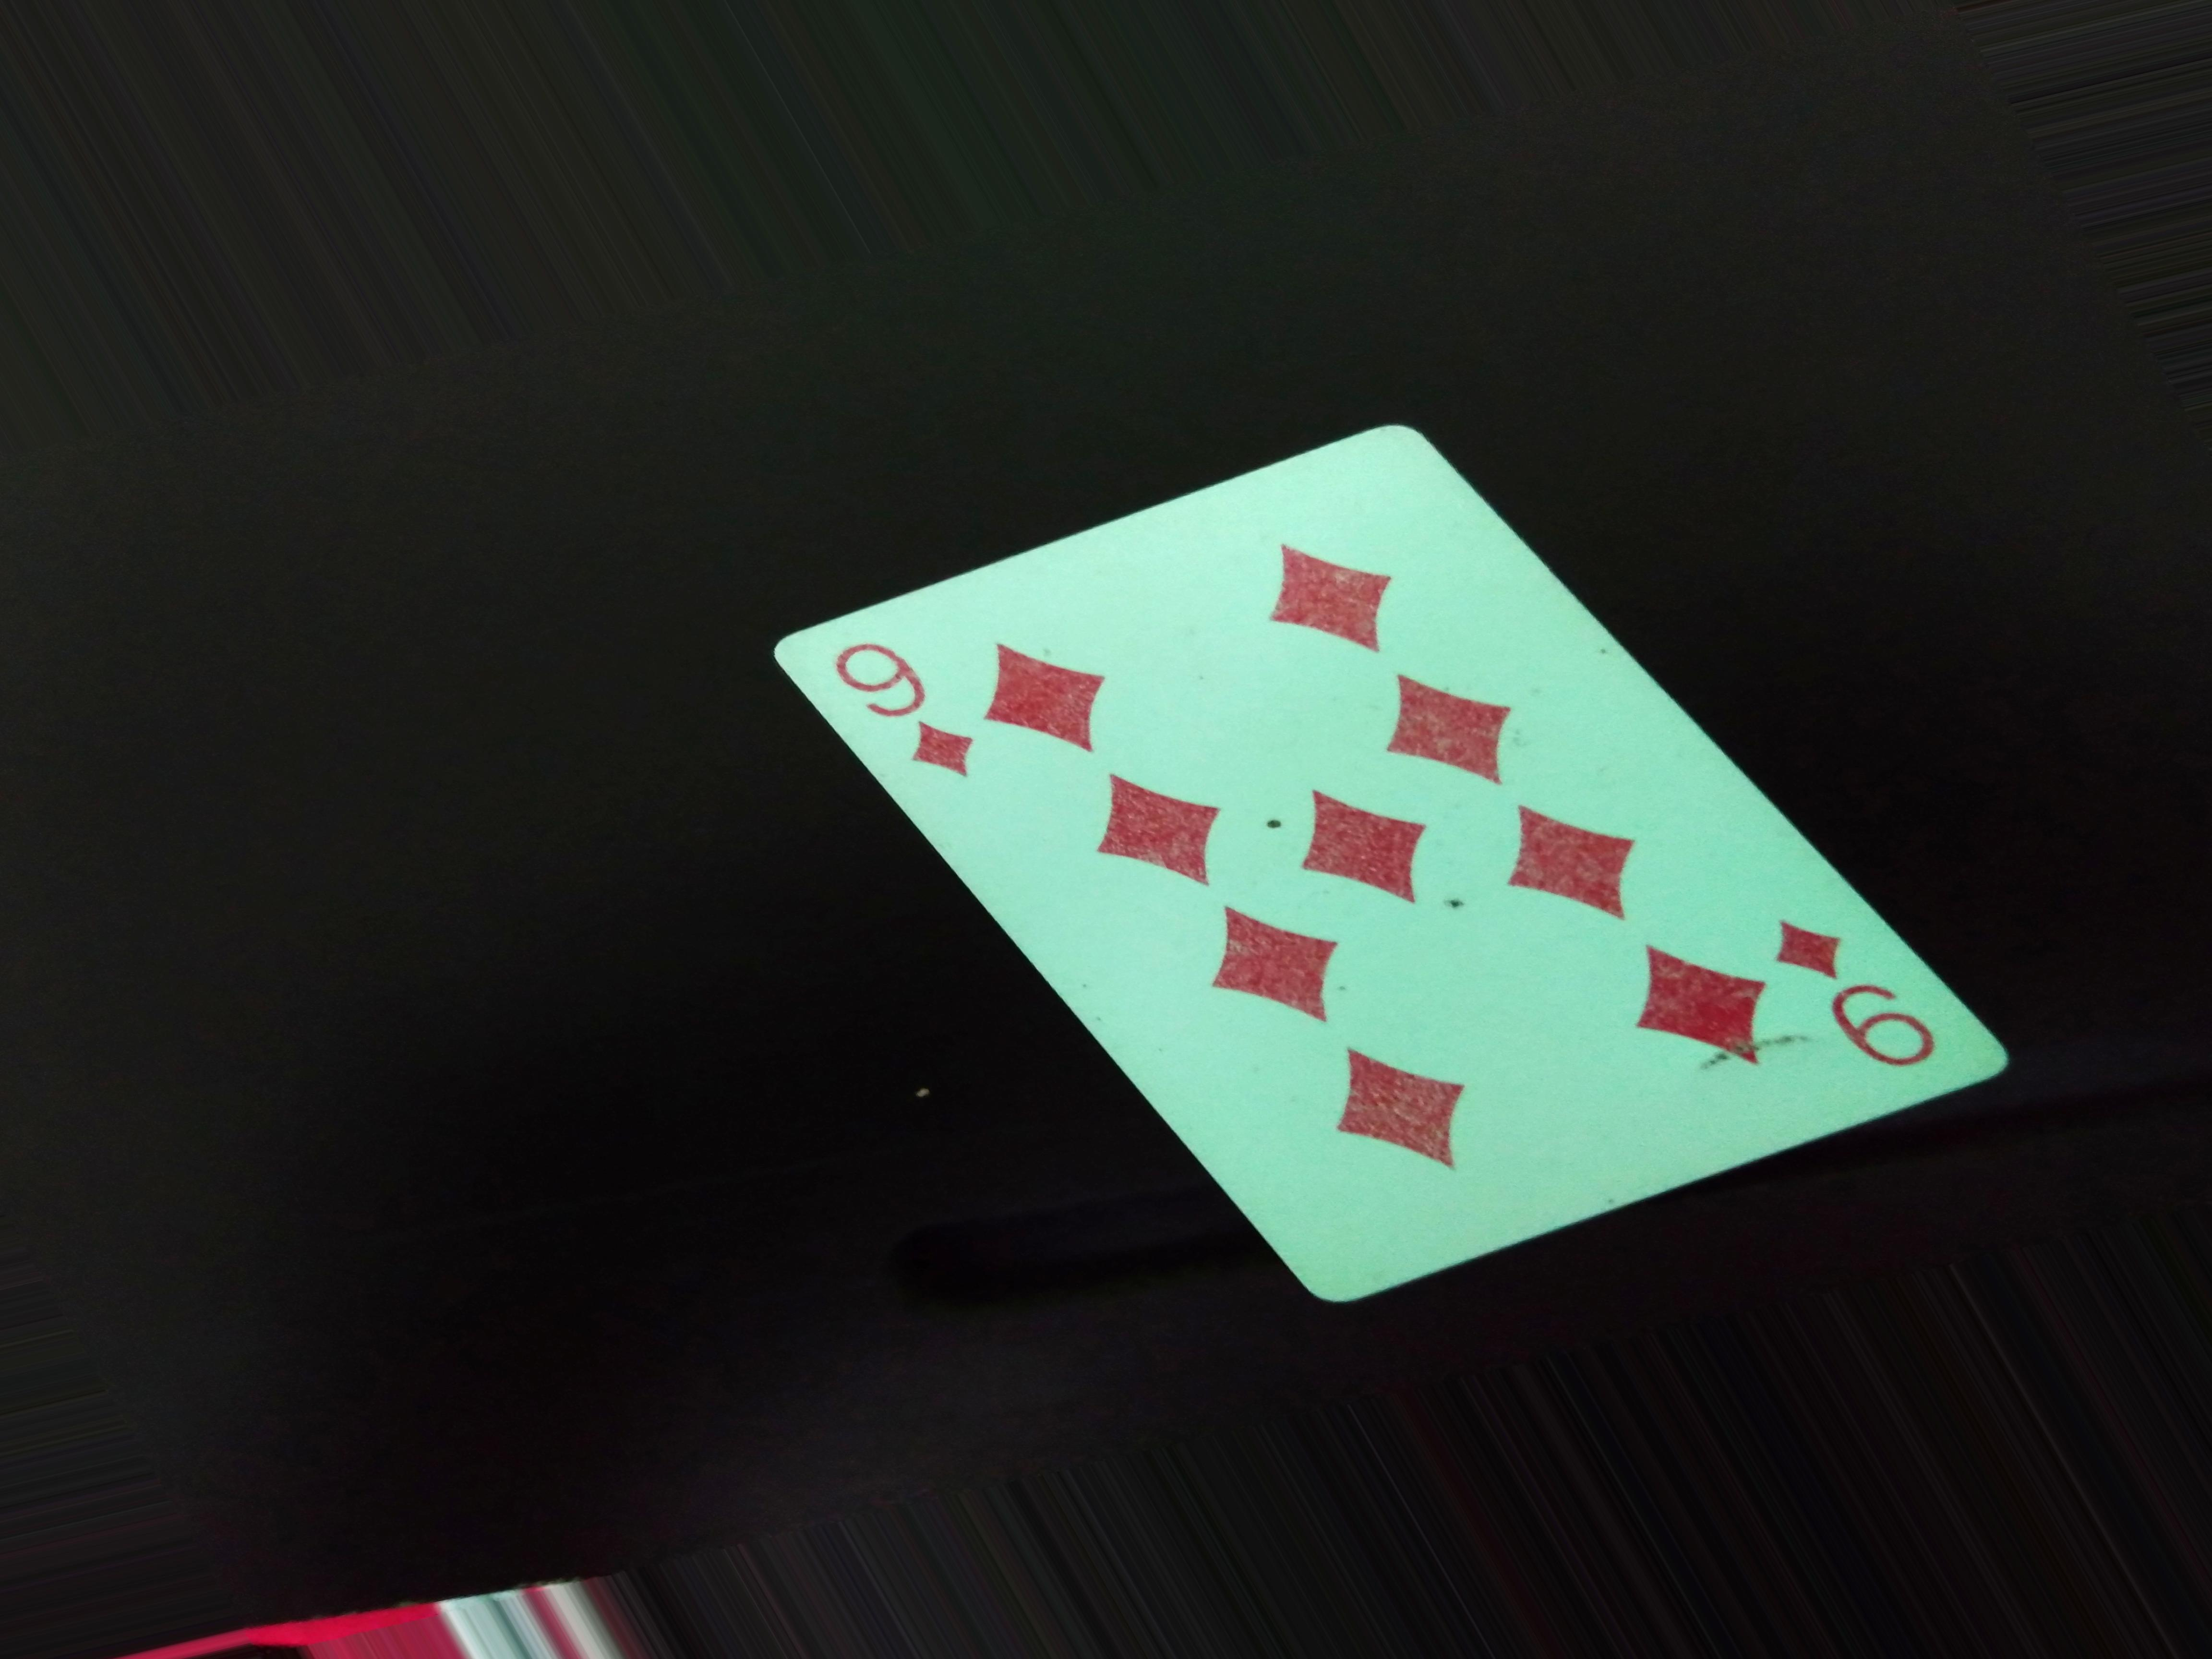9D: (810, 641, 1003, 781)
